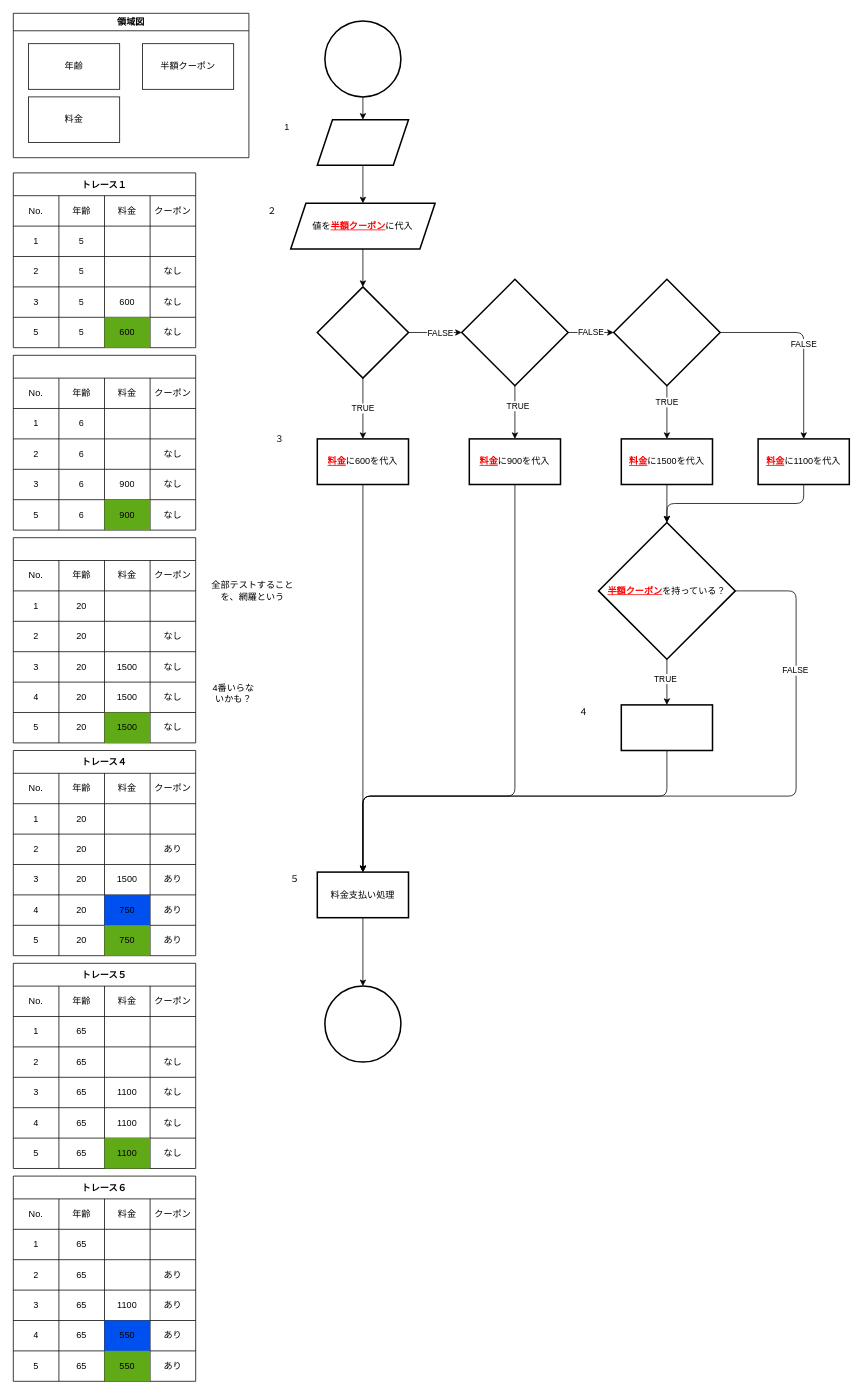
Image size: 863x1395. Some labels were removed from this diagram. Each missing label, with the box of its shape:
トレース２: (13, 355, 196, 530)
トレース３: (13, 537, 196, 743)
年齢 が12以下の時: (461, 278, 568, 386)
年齢 が65未満の時: (613, 278, 720, 386)
年齢 が6未満の時: (316, 286, 409, 378)
年齢を確認 値を 年齢 に代入: (316, 119, 409, 166)
料金 に 料金/2 を代入: (620, 704, 713, 751)
